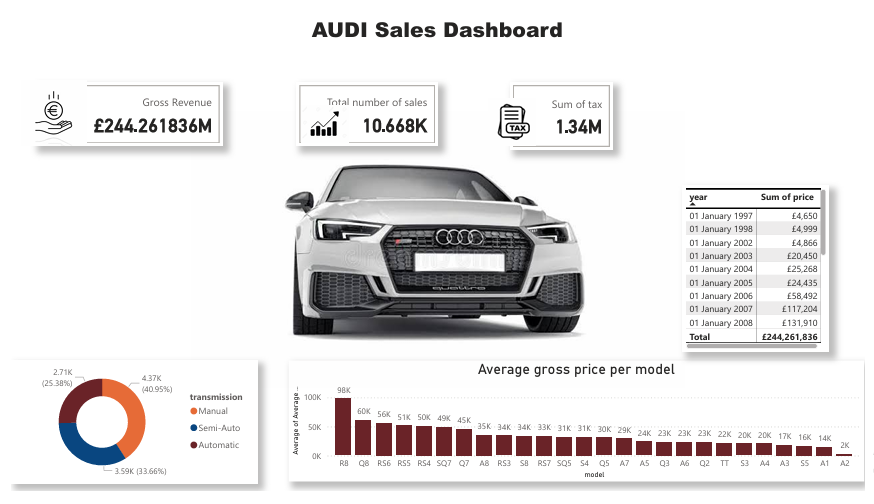

This screenshot's page, from the dashboard's own definition file:
{"tool":"powerbi","page":{"name":"Duplicate of Duplicate of Duplicate of Page 1","canvas":[1280,720],"ordinal":3},"visuals":[{"type":"clusteredColumnChart","fields":{"Category":["audi.model"],"Y":["Avg(audi.Average price 1)"]},"box":[393.1,748.3,886.2,151.7],"z":0},{"type":"clusteredColumnChart","title":"Average gross price per model","fields":{"Category":["audi.model"],"Y":["Avg(audi.Average price 1)"]},"box":[415.7,524.3,862.9,181.4],"z":1000},{"type":"cardVisual","fields":{"Data":["CountNonNull(audi.price)"]},"box":[428.3,106.7,211.7,96.7],"z":2000},{"type":"cardVisual","fields":{"Data":["Sum(audi.price)"]},"box":[35,106.7,281.7,96.7],"z":3000},{"type":"donutChart","fields":{"Category":["audi.transmission"],"Y":["CountNonNull(audi.transmission)"]},"box":[0,524.3,368.6,184.3],"z":4000},{"type":"image","box":[416.7,136.7,105,66.7],"z":5000},{"type":"image","box":[0,100,126.7,108.3],"z":6000},{"type":"shape","title":"AUDI Sales Dashboard","box":[153.3,5,971.7,68.3],"z":8000},{"type":"cardVisual","fields":{"Data":["Sum(audi.tax)"]},"box":[748.3,106.7,153.3,101.7],"z":9000},{"type":"pivotTable","fields":{"Rows":["audi.year"],"Values":["Sum(audi.price)"]},"box":[1006.7,261.7,220,250],"z":10000},{"type":"image","box":[710,117.1,81.4,98.6],"z":11000}]}

Visuals, with their boxes in screenshot pixels (x1, y1, x2, y2), scaled from the page's 1280x720 canvas onto the 874x504 screenshot:
"Average gross price per model" clusteredColumnChart: bbox=(284, 367, 873, 494)
cardVisual - CountNonNull(audi.price): bbox=(292, 75, 437, 142)
cardVisual - Sum(audi.price): bbox=(24, 75, 216, 142)
donutChart - audi.transmission x CountNonNull(audi.transmission): bbox=(0, 367, 252, 496)
image: bbox=(285, 96, 356, 142)
image: bbox=(0, 70, 87, 146)
"AUDI Sales Dashboard" shape: bbox=(105, 4, 768, 51)
cardVisual - Sum(audi.tax): bbox=(511, 75, 616, 146)
pivotTable - audi.year x Sum(audi.price): bbox=(687, 183, 838, 358)
image: bbox=(485, 82, 540, 151)
